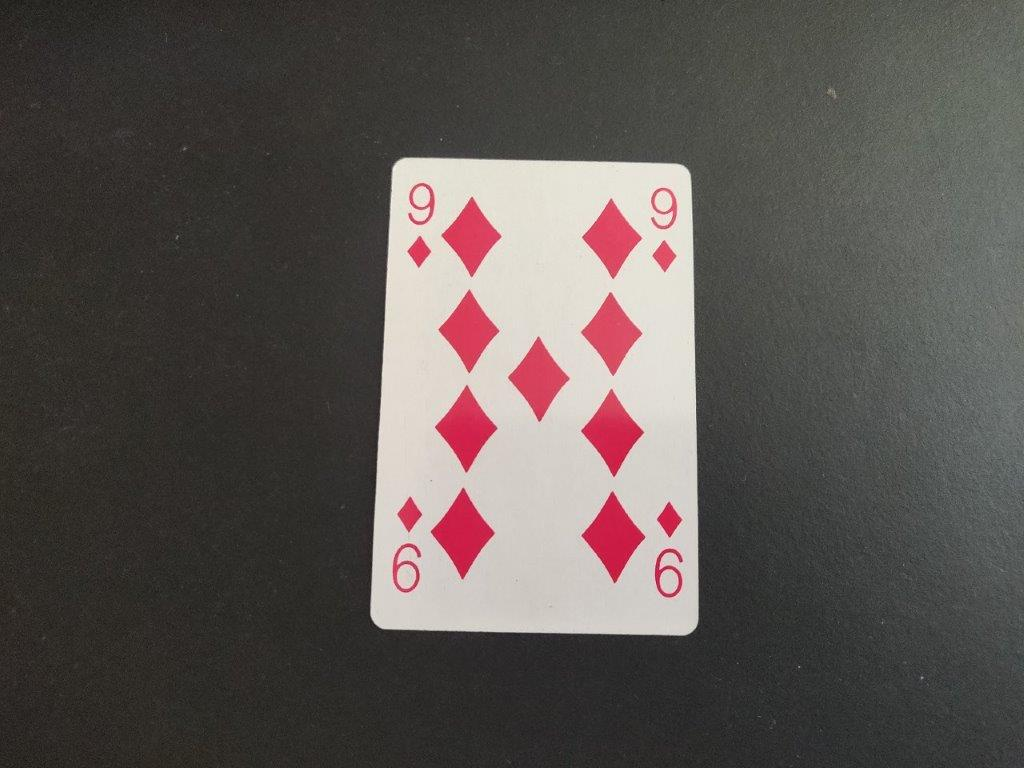9D: (645, 181, 684, 278), (401, 178, 441, 272)
